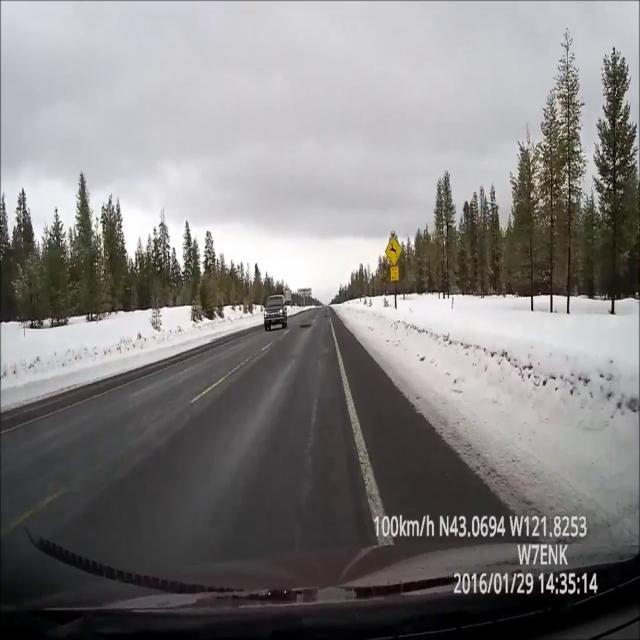Pothole: (299, 323, 311, 330), (323, 315, 329, 319)
